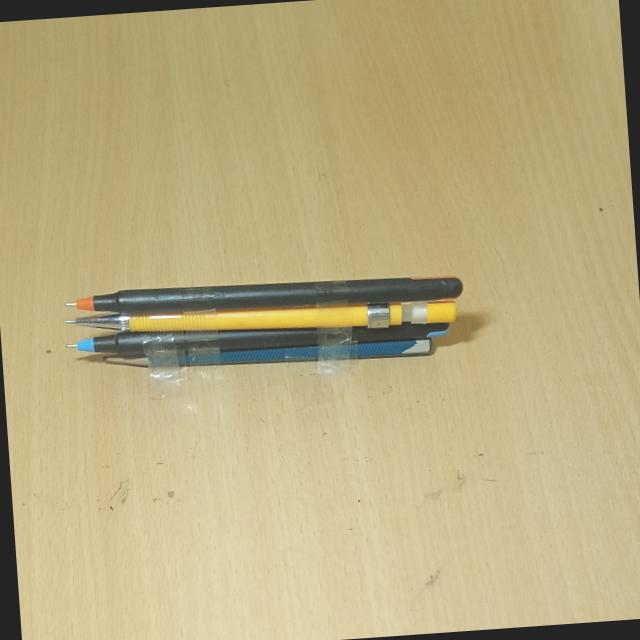pen: (44, 250, 474, 322)
pencil: (84, 322, 447, 384), (70, 292, 482, 344)
